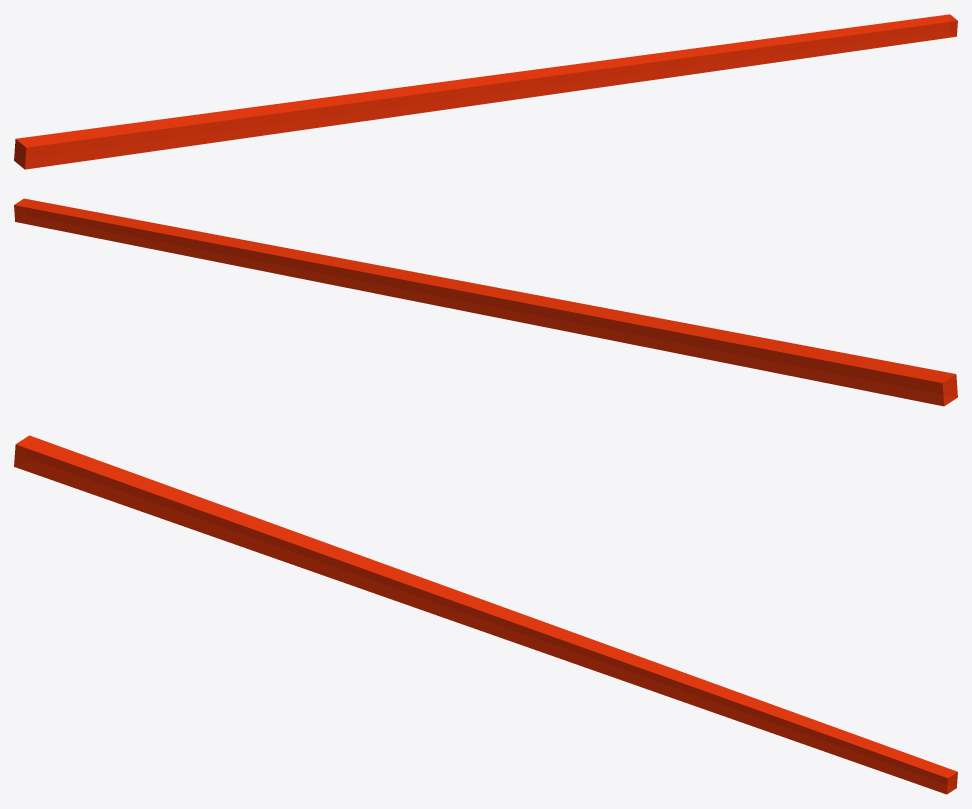
The model's file is Event_420604493_EErechit_9.fbx.
The picture shows the model from 3 angles, top to bottom: view 1: azimuth 30°, elevation 25°; view 2: azimuth 150°, elevation 25°; view 3: azimuth 330°, elevation 25°; orthographic projection. The views are drawn at different scales.
Parts seen in each view (by area): view 1: Model; view 2: Model; view 3: Model.
Boxes of the visible parts, bbox=[...] form: Model: bbox=[14, 14, 957, 169]; Model: bbox=[14, 198, 957, 406]; Model: bbox=[14, 435, 957, 794].
Bounding box in the file's own units: 4.39 × 0.418 × 0.3213.
